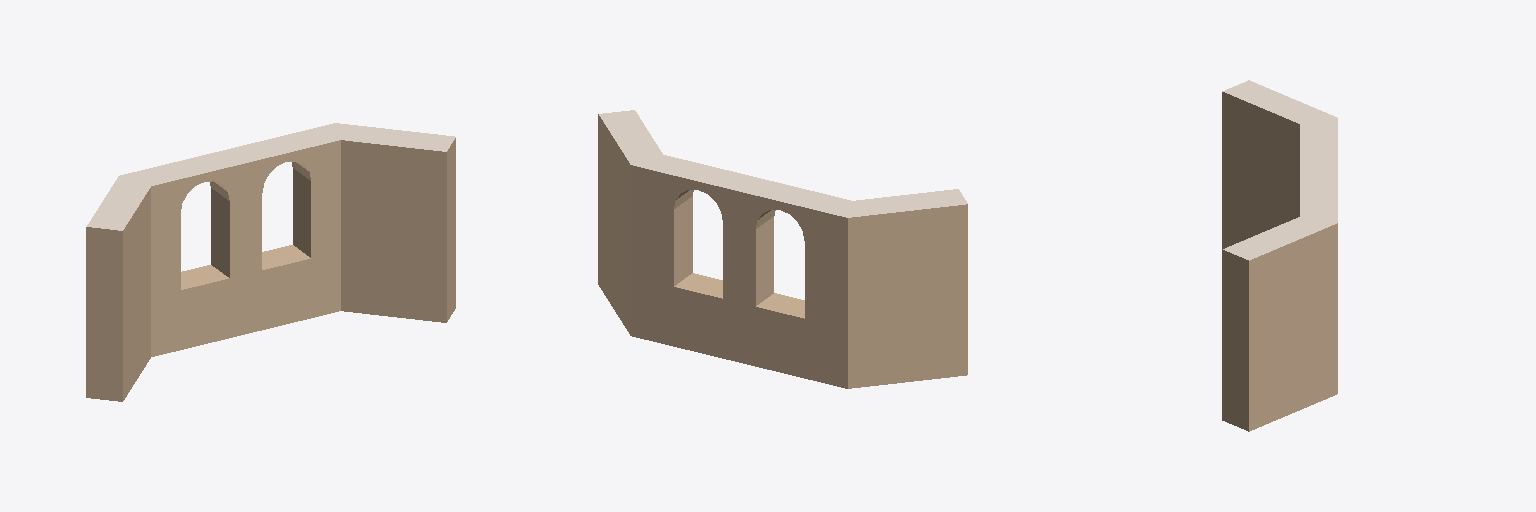
File: Tower_Wall_Normal_Windows.obj
3 renders of one model, left to right at view 1: azimuth 30°, elevation 25°; view 2: azimuth 150°, elevation 25°; view 3: azimuth 270°, elevation 25°, orthographic.
Parts seen in each view (by area): view 1: object1; view 2: object1; view 3: object1.
Part boxes in pixels (bbox=[...]): object1: bbox=[86, 123, 455, 401]; object1: bbox=[598, 110, 967, 388]; object1: bbox=[1222, 80, 1337, 431].
Bounding box in the file's own units: 2.26 × 1 × 0.6101.